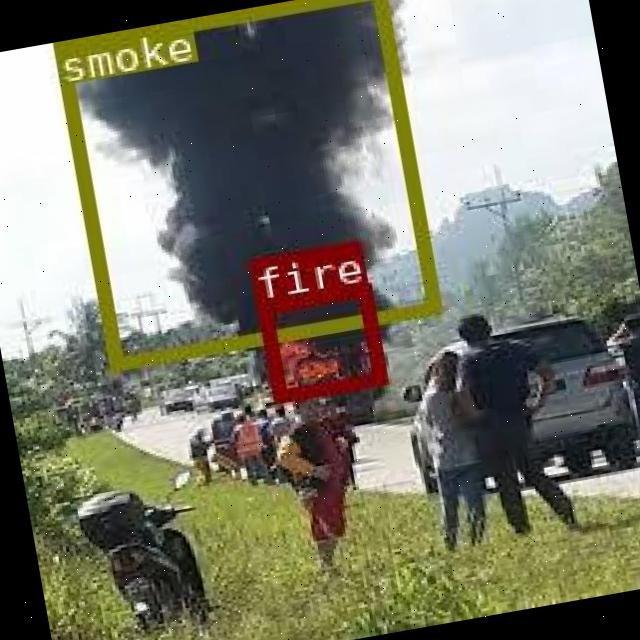fire: (254, 282, 384, 402)
smoke: (51, 0, 438, 367)
